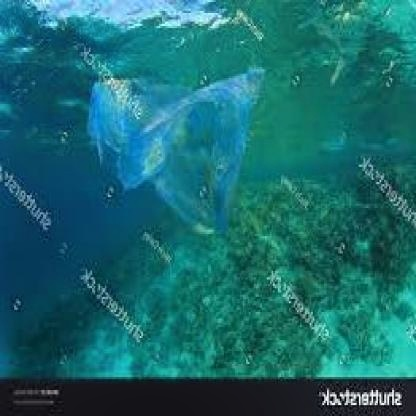pbag: (86, 68, 266, 238)
